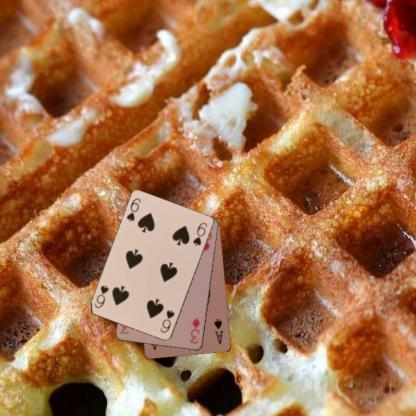3d: (187, 315, 202, 344)
6s: (158, 308, 176, 335), (124, 196, 142, 223)
As: (212, 316, 224, 346)
